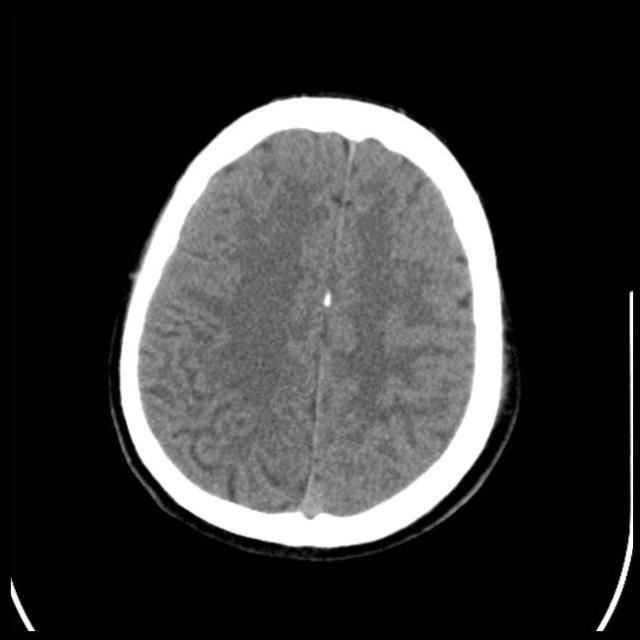lesion: (109, 91, 520, 558)
